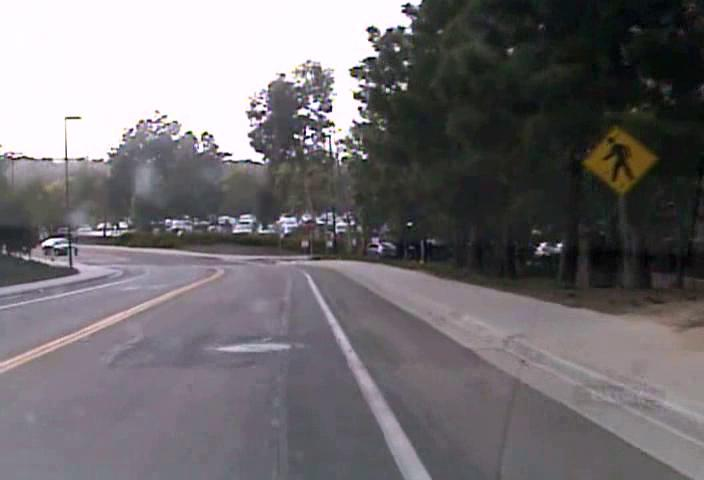pedestrianCrossing: (583, 124, 658, 195)
